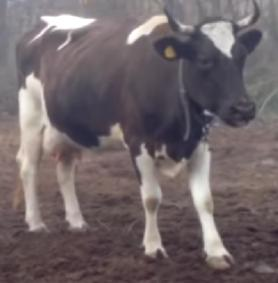cow: (18, 13, 264, 269)
